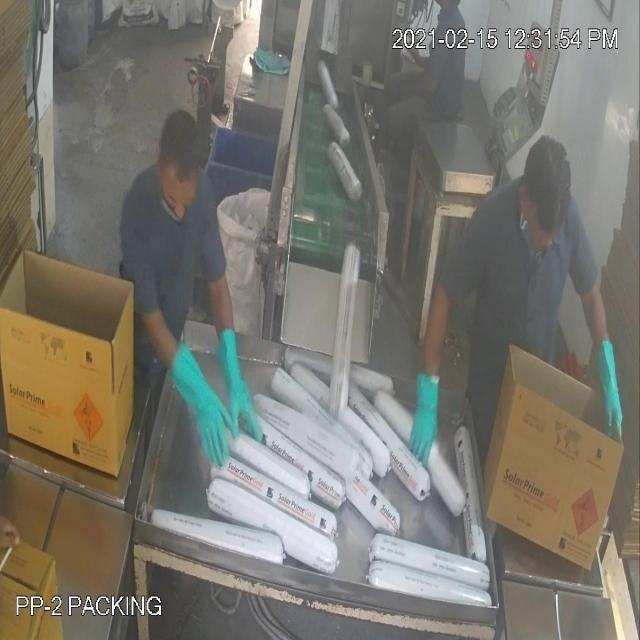Gloves: (36, 122, 609, 420)
